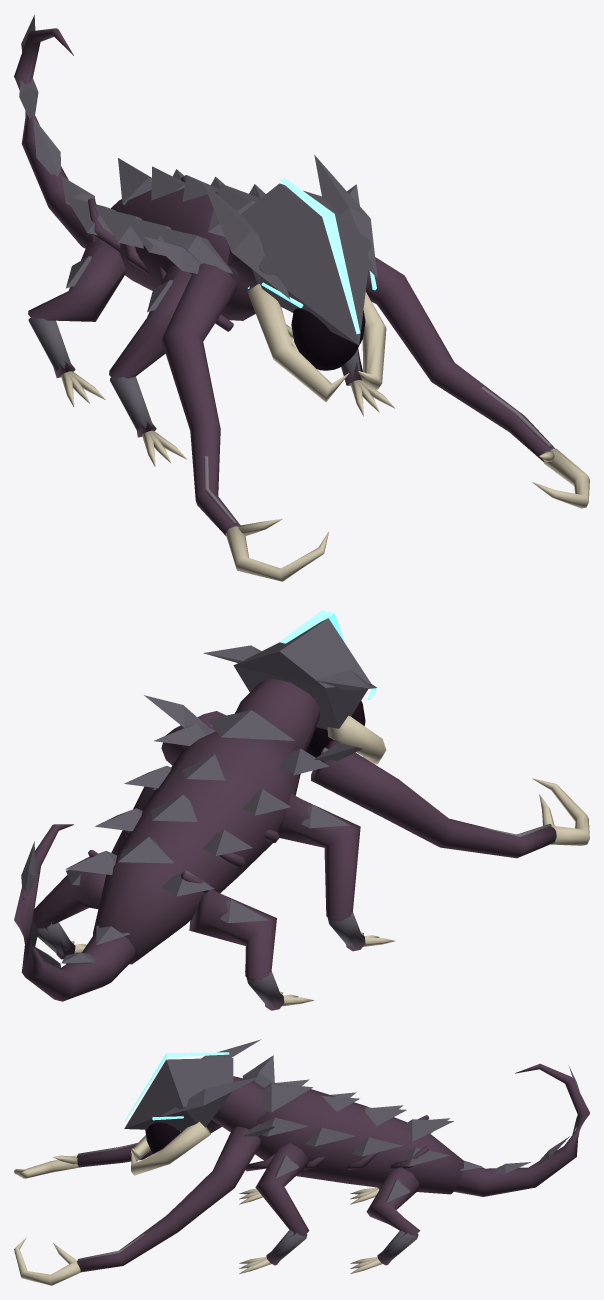
File: tendon-stalker-hatchling.glb
The picture shows the model from 3 angles, top to bottom: view 1: azimuth 30°, elevation 25°; view 2: azimuth 150°, elevation 25°; view 3: azimuth 270°, elevation 25°; orthographic projection. The views are drawn at different scales.
Visible parts, largest first — view 1: Head | swept wedge skull, Capture_L, Capture_R, Torso | tapered crouching body, Leg_L_1, Tail | single curved appendage, Leg_L_0, Jaw | split mandible -1.001, Jaw | dark feeding recess, Head | swept temple -1, Head | swept temple 1, Capture hook -1 (+12 smaller); view 2: Torso | tapered crouching body, Capture_L, Head | swept wedge skull, Tail | single curved appendage, Leg_L_0, Leg_L_1, Neck | forward tendon column, Leg_R_1, Dorsal | overlapping blade 0, Jaw | split mandible -1.001, Capture hook -1, Dorsal | overlapping blade 3 (+21 smaller); view 3: Torso | tapered crouching body, Capture_R, Head | swept wedge skull, Tail | single curved appendage, Leg_R_0, Leg_R_1, Neck | forward tendon column, Jaw | split mandible 1.001, Capture_L, Capture hook 1, Dorsal | overlapping blade 0, Head | swept temple 1 (+12 smaller).
Part boxes in pixels (x1,y1,x2,y2): Head | swept wedge skull: (240,183,371,345); Capture_L: (161,263,240,536); Capture_R: (366,257,554,461); Torso | tapered crouching body: (93,188,258,320); Leg_L_1: (28,240,125,377); Tail | single curved appendage: (14,28,92,248); Leg_L_0: (109,265,191,437); Jaw | split mandible -1.001: (247,284,349,401); Jaw | dark feeding recess: (291,308,365,370); Head | swept temple -1: (203,182,290,299); Head | swept temple 1: (314,155,377,277); Capture hook -1: (226,526,328,581); Torso | tapered crouching body: (93,731,300,964); Capture_L: (311,740,556,858); Head | swept wedge skull: (233,618,371,729); Tail | single curved appendage: (14,824,135,1001); Leg_L_0: (277,793,365,951); Leg_L_1: (189,889,284,1010); Neck | forward tendon column: (235,678,320,751); Leg_R_1: (33,871,106,959); Dorsal | overlapping blade 0: (208,710,294,740); Jaw | split mandible -1.001: (327,716,386,764); Capture hook -1: (532,778,589,845); Dorsal | overlapping blade 3: (118,837,174,863); Torso | tapered crouching body: (247,1089,463,1194); Capture_R: (77,1126,260,1272); Head | swept wedge skull: (124,1058,233,1130); Tail | single curved appendage: (454,1063,589,1196); Leg_R_0: (255,1143,309,1265); Leg_R_1: (366,1167,420,1265); Neck | forward tendon column: (211,1076,265,1132); Jaw | split mandible 1.001: (131,1122,210,1175); Capture_L: (77,1120,221,1167); Capture hook 1: (14,1237,80,1285); Dorsal | overlapping blade 0: (260,1083,312,1112); Head | swept temple 1: (159,1076,261,1117).
Size of the model in its own units: 1.46 by 1.04 by 3.01.
